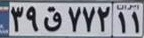character: (40, 5, 64, 35), (64, 4, 82, 34), (82, 3, 97, 34), (97, 3, 111, 36), (10, 4, 25, 34), (26, 4, 40, 34), (129, 10, 143, 34), (116, 11, 129, 34)
